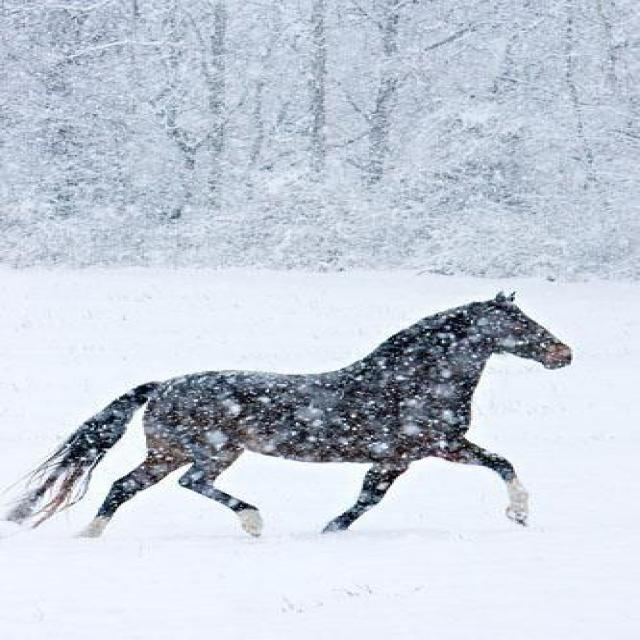horse: (2, 289, 573, 539)
